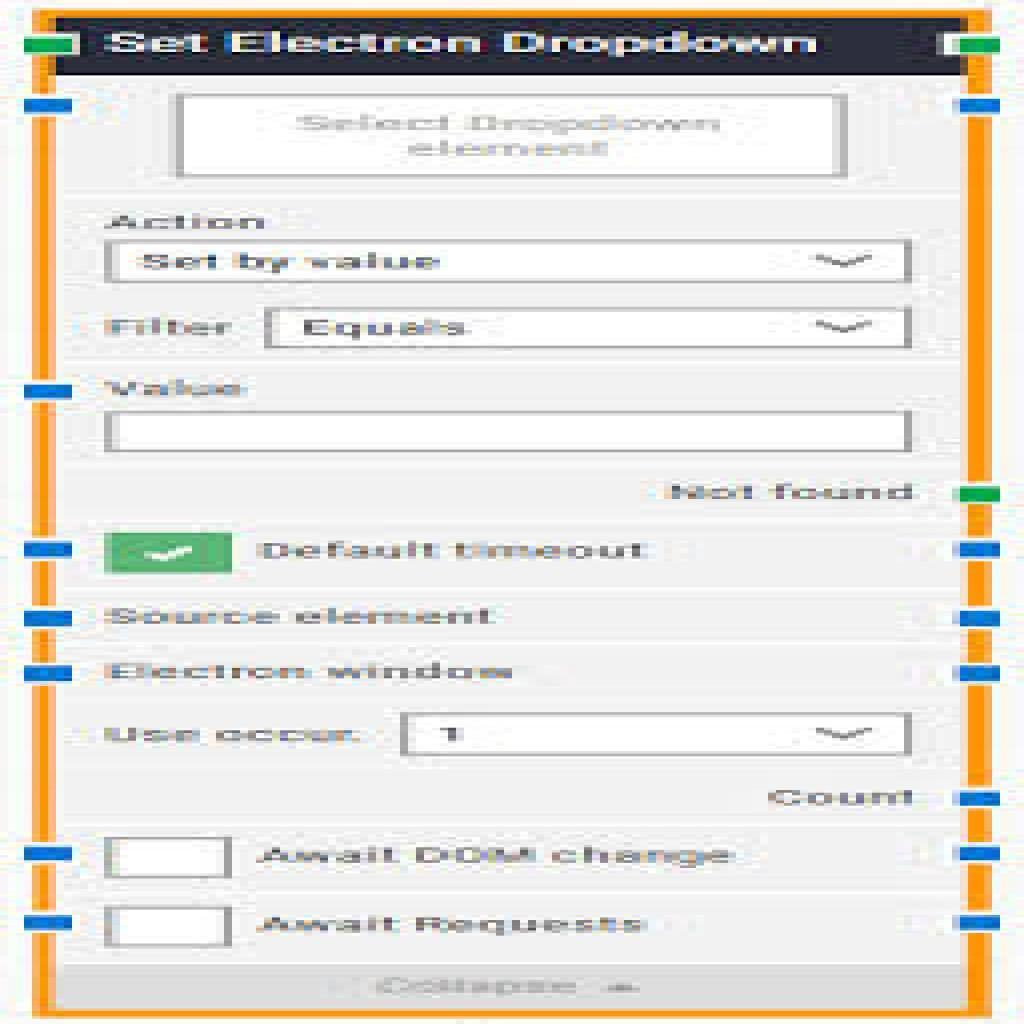button: (186, 99, 844, 178), (57, 965, 963, 1009)
checkbox: (107, 532, 234, 576), (104, 837, 234, 879), (105, 908, 233, 950)
dropdown: (105, 239, 914, 286), (267, 308, 912, 349), (398, 713, 911, 758)
input: (104, 411, 914, 454)
label: (254, 838, 749, 870), (102, 658, 530, 690), (254, 914, 652, 945), (101, 605, 510, 631), (258, 540, 651, 567), (105, 720, 377, 748), (101, 370, 266, 406), (101, 311, 240, 345), (107, 211, 272, 235)
